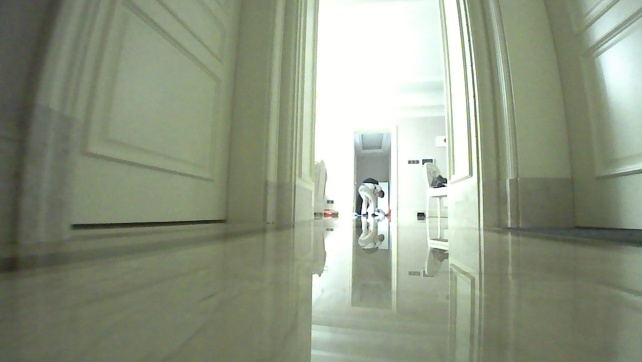blanket: (507, 223, 641, 248)
door_anno: (70, 0, 283, 226)
